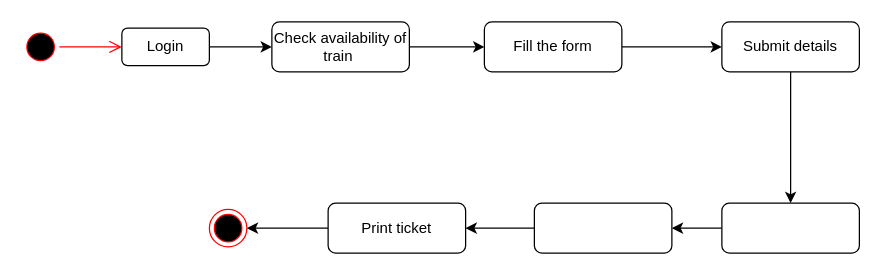
The diagram is 881 pixels wide and 275 high, and some of its shapes have lost their labels. Here are the shapes that lost their labels. From the top down, the box of each, then its label:
(533, 202, 672, 253): Make payment
(721, 202, 859, 253): Book tickets
